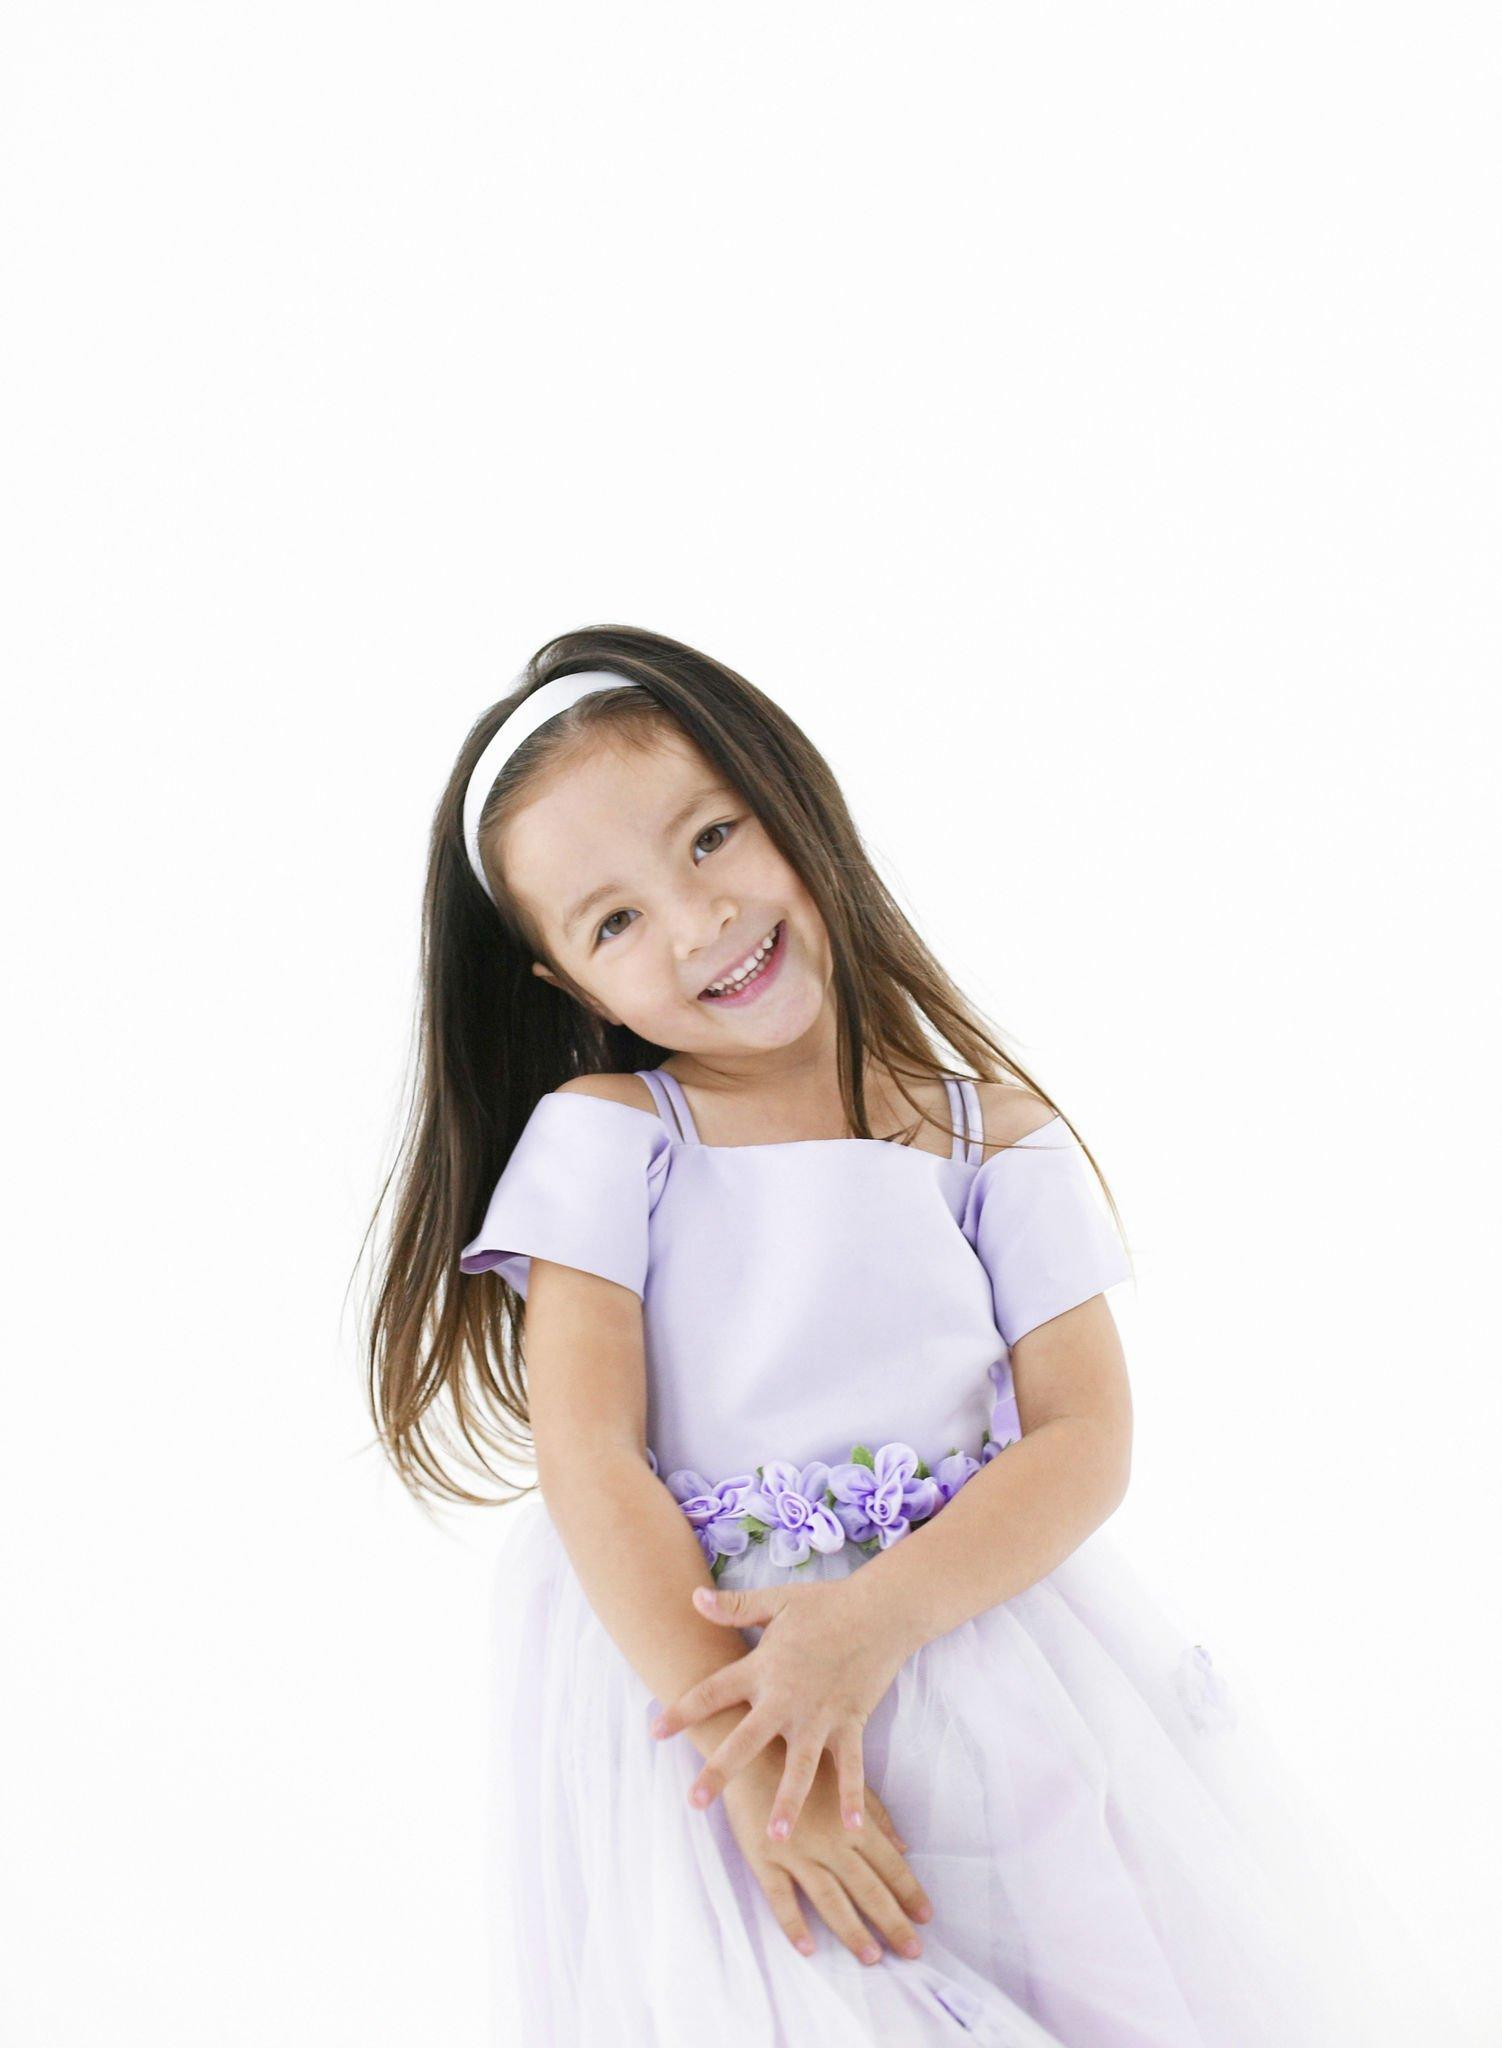Healthy: (456, 657, 863, 1096)
